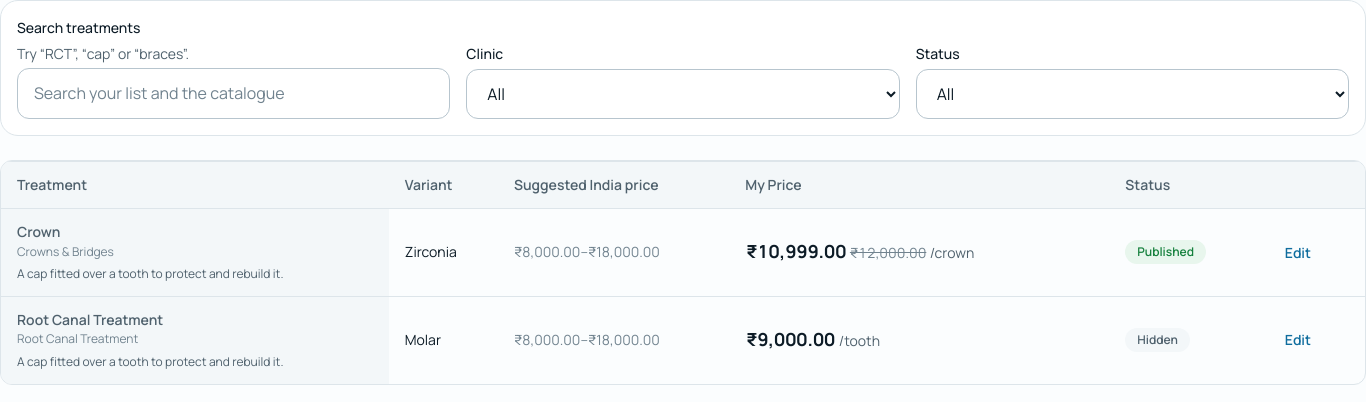
Scenario: My Price (§4, §8, §20) › only puts the edited cell into edit mode
The image size is (1366, 402).
Click the button named "Edit this price" at point(871, 252), box [737, 233, 1006, 271]
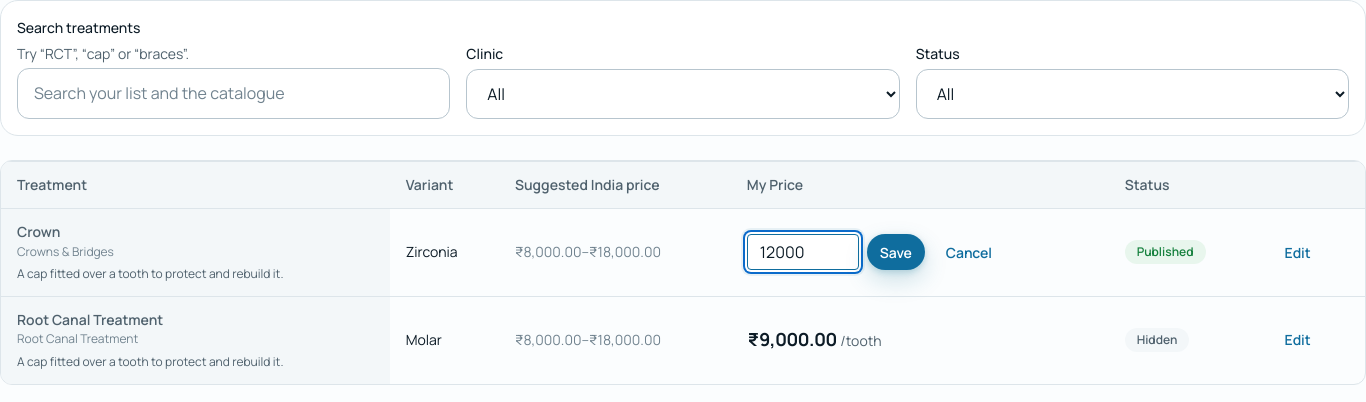
Now the number of fields named "My Price in rupees" is 1, box [747, 234, 859, 270]
